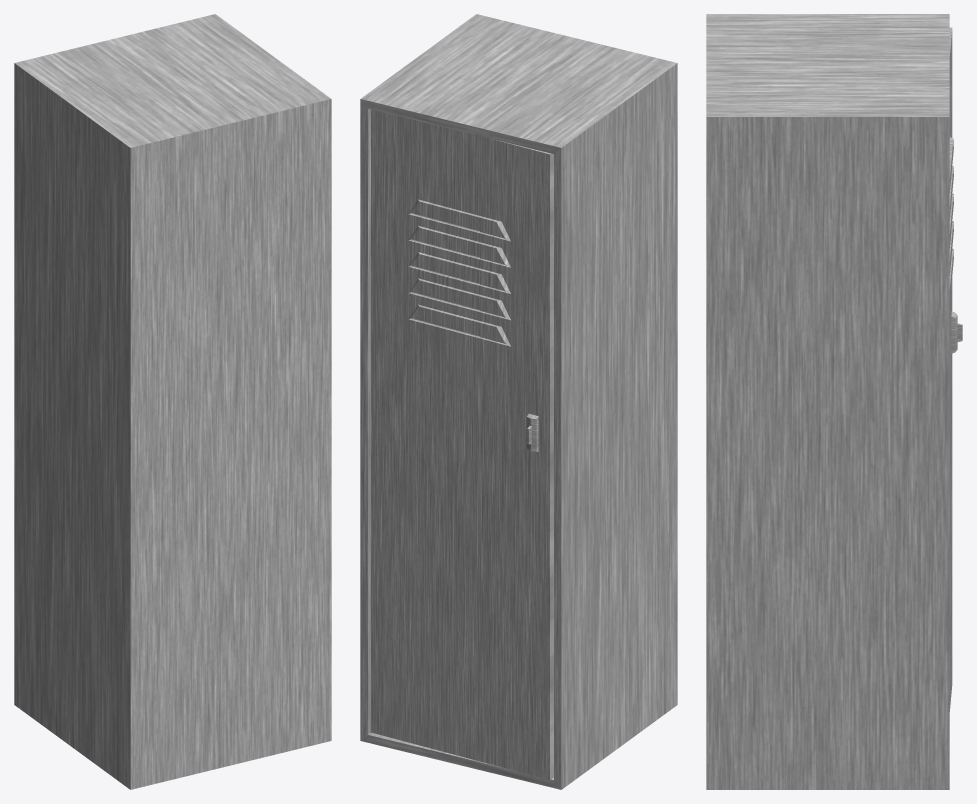
The model's file is SCH0110011.fbx.
3 renders of one model, left to right at view 1: azimuth 30°, elevation 25°; view 2: azimuth 150°, elevation 25°; view 3: azimuth 270°, elevation 25°, orthographic. The views are drawn at different scales.
Parts seen in each view (by area): view 1: smSCH0110011; view 2: smSCH0110011; view 3: smSCH0110011.
Part boxes in pixels (left/top/right/bottom): smSCH0110011: left=14, top=14, right=331, bottom=789; smSCH0110011: left=360, top=14, right=677, bottom=789; smSCH0110011: left=706, top=14, right=962, bottom=789.
Size of the model in its own units: 104 by 317 by 109.
Materials: 1 (1 with a texture image).
